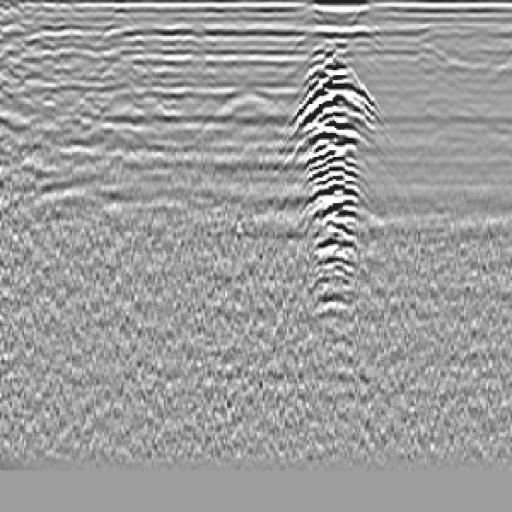metalic: (293, 9, 376, 335)
nonmetalic: (182, 82, 303, 166)
